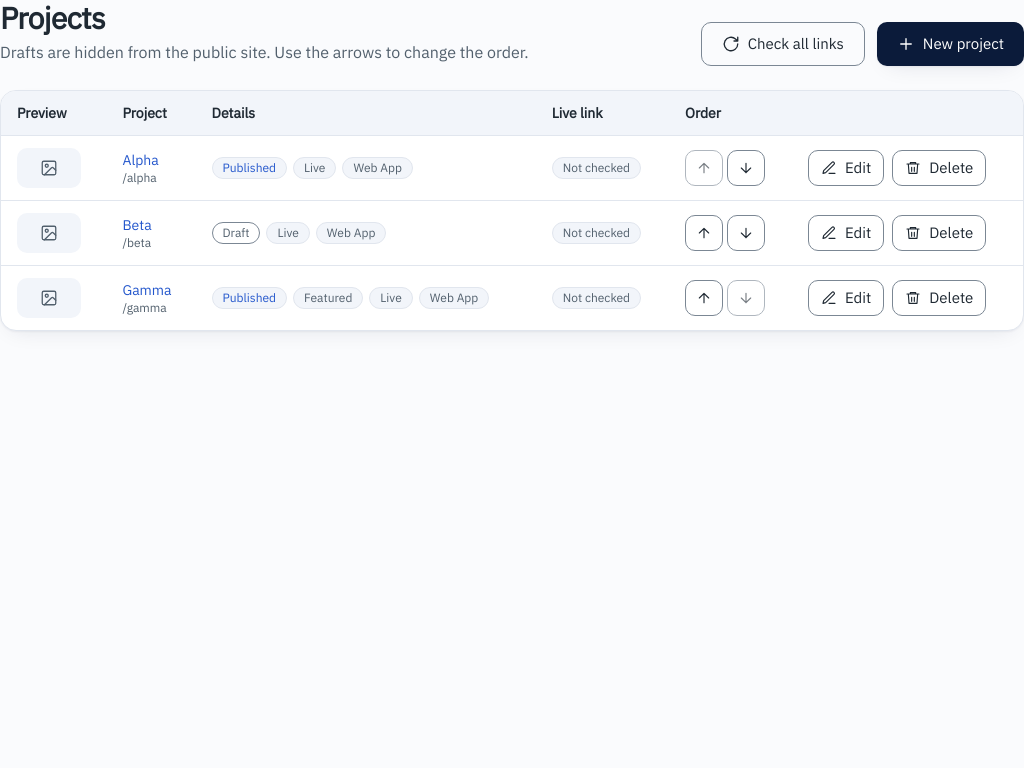
ProjectsPage › confirms before deleting a project
Later steps or results of the test are not shown.
What coordinates should you click on to do the following:
click the button with aria-label "Delete Beta"
I would click on:
 (939, 233)
Its box is top-left (892, 215), bottom-right (986, 251).
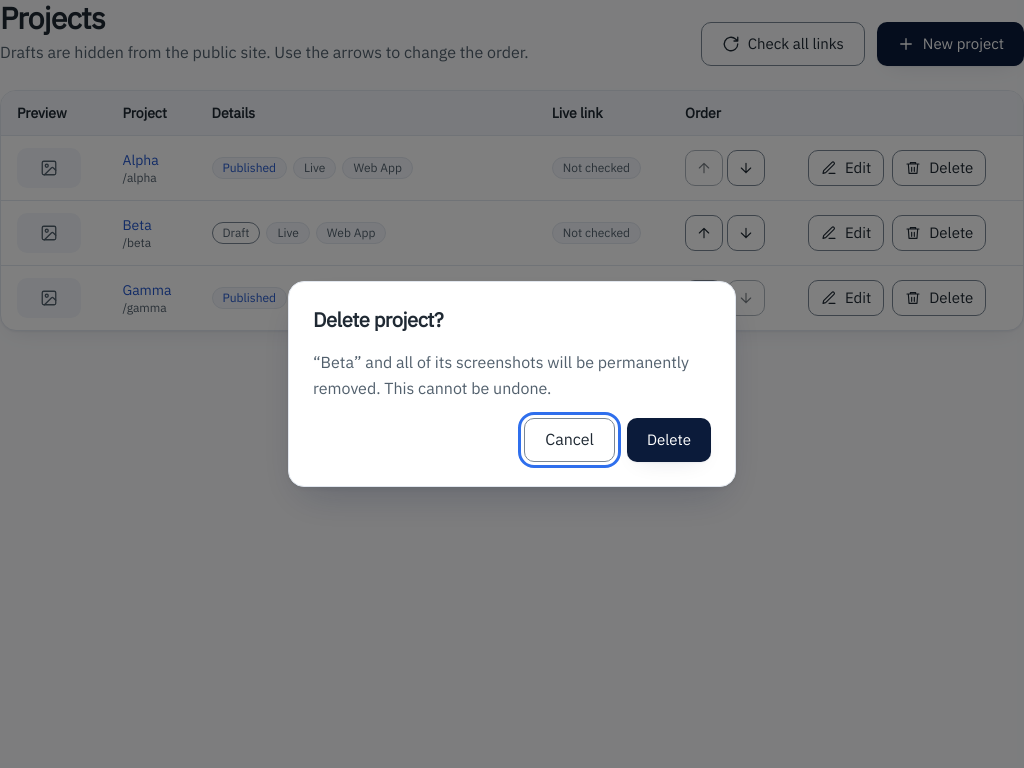
Expected: the dialog "Delete project?" shows "all of its screenshots", top-left (313, 352), bottom-right (689, 398)
